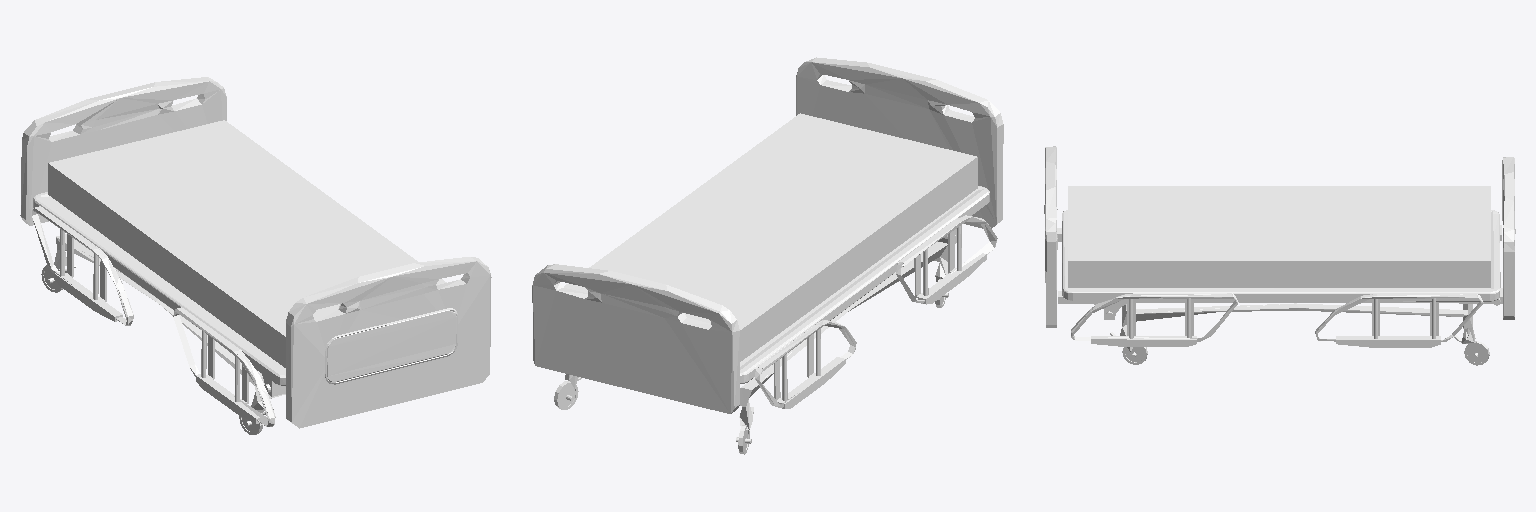
robot.urdf — bed:
<?xml version="1.0" ?>
<robot name="bed">

  <material name="white">
    <color rgba="1 1 1 1"/>
  </material>

  <link name="frame">
    <inertial>
      <mass value="0"/>
      <origin rpy="0 0 0" xyz="0 0 0"/>
      <inertia ixx="1" ixy="0" ixz="0" iyy="1" iyz="0" izz="1"/>
    </inertial>
    <visual>
      <origin rpy="1.57079632679 0 -1.57079632679" xyz="0 -0.15 0"/>
      <geometry>
        <mesh filename="hospital_bed_frame_reduced.obj" scale="1 1.2 1"/>
      </geometry>
      <material name="white"/>
    </visual>
    <collision>
      <origin rpy="1.57079632679 0 -1.57079632679" xyz="0 -0.15 0"/>
      <geometry>
        <mesh filename="hospital_bed_frame_vhacd.obj" scale="1 1.2 1"/>
      </geometry>
    </collision>
  </link>

    <link name="bottom">
        <visual>
            <origin xyz="0 -0.625 0.075" rpy="0 0 0"/>
            <geometry>
                <box size="0.88 1.25 0.15"/>
            </geometry>
            <material name="white"/>
        </visual>
        <collision>
            <origin xyz="0 -0.625 0.075" rpy="0 0 0"/>
            <geometry>
                <box size="0.88 1.25 0.15"/>
            </geometry>
        </collision>
        <contact>
            <rolling_friction value="0.001"/>
            <spinning_friction value="0.001"/>
        </contact>
        <inertial>
            <origin rpy="0 0 0" xyz="0 0 0"/>
            <mass value="0"/>
            <inertia ixx="1" ixy="0" ixz="0" iyy="1" iyz="0" izz="1"/>
        </inertial>
    </link>

    <link name="top">
        <visual>
            <origin xyz="0 0.425 0.075" rpy="0 0 0"/>
            <geometry>
                <box size="0.88 0.85 0.15"/>
            </geometry>
            <material name="white"/>
        </visual>
        <collision>
            <origin xyz="0 0.425 0.075" rpy="0 0 0"/>
            <geometry>
                <box size="0.88 0.85 0.15"/>
            </geometry>
        </collision>
        <contact>
            <rolling_friction value="0.001"/>
            <spinning_friction value="0.001"/>
        </contact>
        <inertial>
            <origin rpy="0 0 0" xyz="0 0 0"/>
            <mass value="0"/>
            <inertia ixx="1" ixy="0" ixz="0" iyy="1" iyz="0" izz="1"/>
        </inertial>
    </link>

    <joint name="j_weld1" type="fixed">
        <parent link="frame"/>
        <child link="bottom"/>
        <origin xyz="0 0 0"/>
    </joint>
    <joint name="j_weld2" type="revolute">
        <parent link="bottom"/>
        <child link="top"/>
        <origin rpy="0 0 0" xyz="0 0 0"/>
        <axis xyz="1 0 0"/>
        <limit lower="0" upper="1.57079632679"/>
    </joint>
</robot>

--- Render facts (derived) ---
Views: 3 orthographic renders of the robot side by side, from view 1: azimuth 30°, elevation 25°; view 2: azimuth 150°, elevation 25°; view 3: azimuth 270°, elevation 25°.
Model bed with 3 links and 2 joints (1 revolute, 1 fixed), rooted at frame, posed all joints at 0.
Visible links, largest first — view 1: frame, bottom, top; view 2: frame, bottom, top; view 3: bottom, frame, top.
Boxes of the visible links, x1=… form: frame: x1=20, y1=77, x2=491, y2=434; bottom: x1=147, y1=192, x2=446, y2=367; top: x1=48, y1=120, x2=321, y2=266; frame: x1=532, y1=57, x2=1003, y2=454; bottom: x1=655, y1=113, x2=977, y2=294; top: x1=564, y1=220, x2=831, y2=361; bottom: x1=1068, y1=186, x2=1319, y2=287; frame: x1=1044, y1=146, x2=1515, y2=365; top: x1=1320, y1=186, x2=1490, y2=287.
Size in the robot's own frame: 1.09 by 2.34 by 0.8433 metres.
Meshes: 1 distinct files referenced, 1 mesh visuals loaded (1 OBJ).
